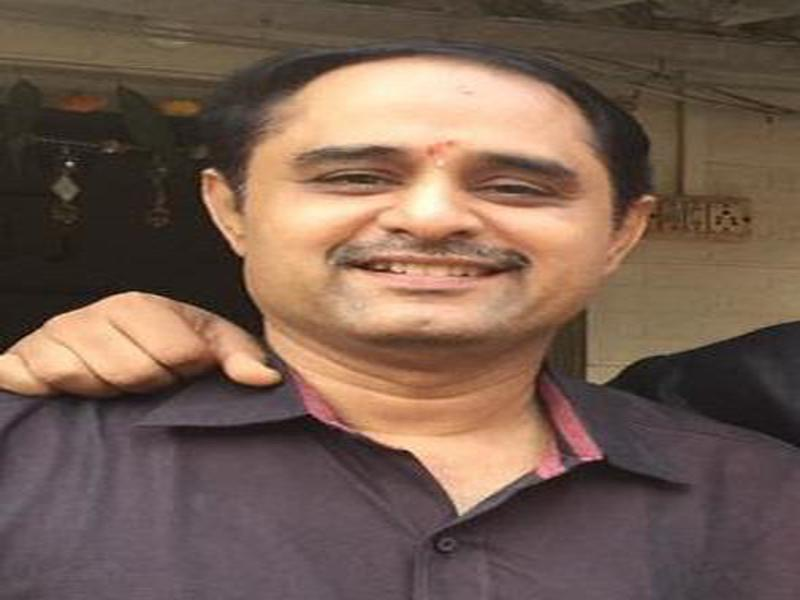without_mask: (245, 104, 607, 361)
